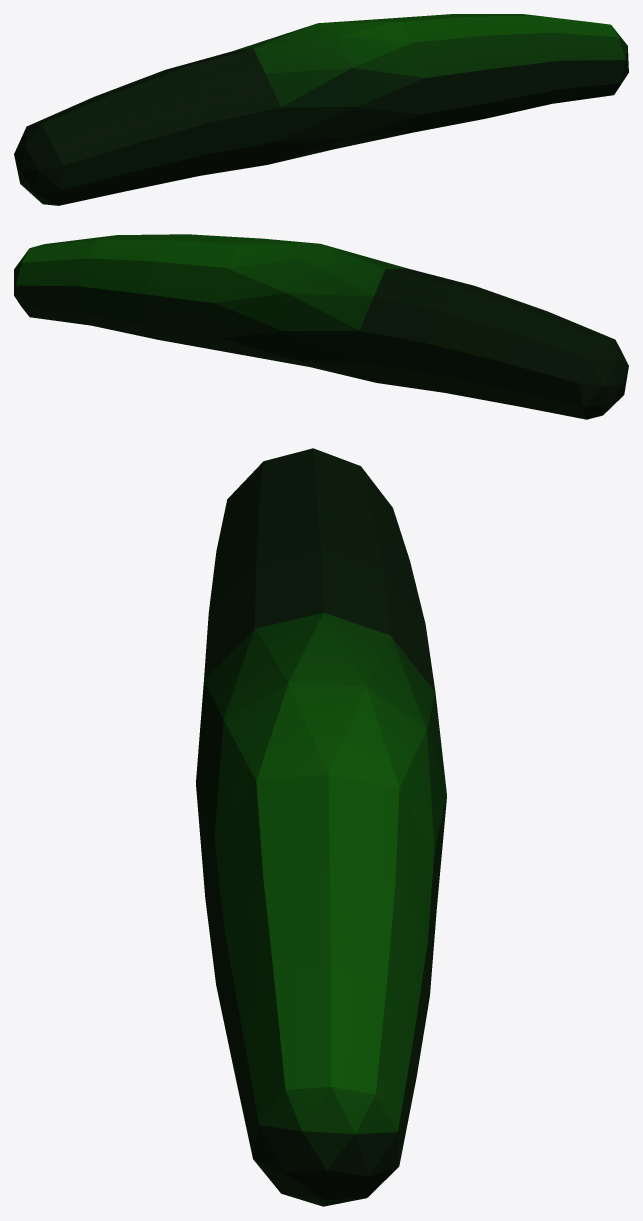
The model's file is cucumber.fbx.
The picture shows the model from 3 angles, top to bottom: view 1: azimuth 30°, elevation 25°; view 2: azimuth 150°, elevation 25°; view 3: azimuth 270°, elevation 25°; orthographic projection. The views are drawn at different scales.
Visible parts, largest first — view 1: Icosphere; view 2: Icosphere; view 3: Icosphere.
Boxes of the visible parts, x1,y1,x2,y2 form: Icosphere: (14, 14, 628, 205); Icosphere: (14, 234, 628, 419); Icosphere: (196, 448, 446, 1206).
Bounding box in the file's own units: 964 × 202 × 175.
